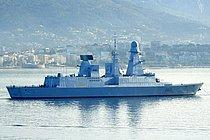MIL_Ship: (5, 40, 204, 98)
